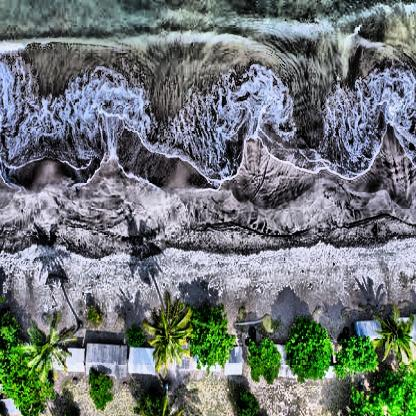tree-top: (284, 314, 336, 387), (147, 293, 195, 366), (0, 347, 50, 416), (190, 304, 230, 376), (30, 314, 70, 372), (245, 333, 286, 384), (338, 328, 378, 380), (380, 307, 416, 360), (126, 381, 179, 416), (383, 369, 416, 416), (344, 382, 384, 416), (89, 364, 114, 413), (236, 384, 260, 416), (0, 308, 18, 342), (130, 317, 146, 350), (86, 303, 103, 332)
